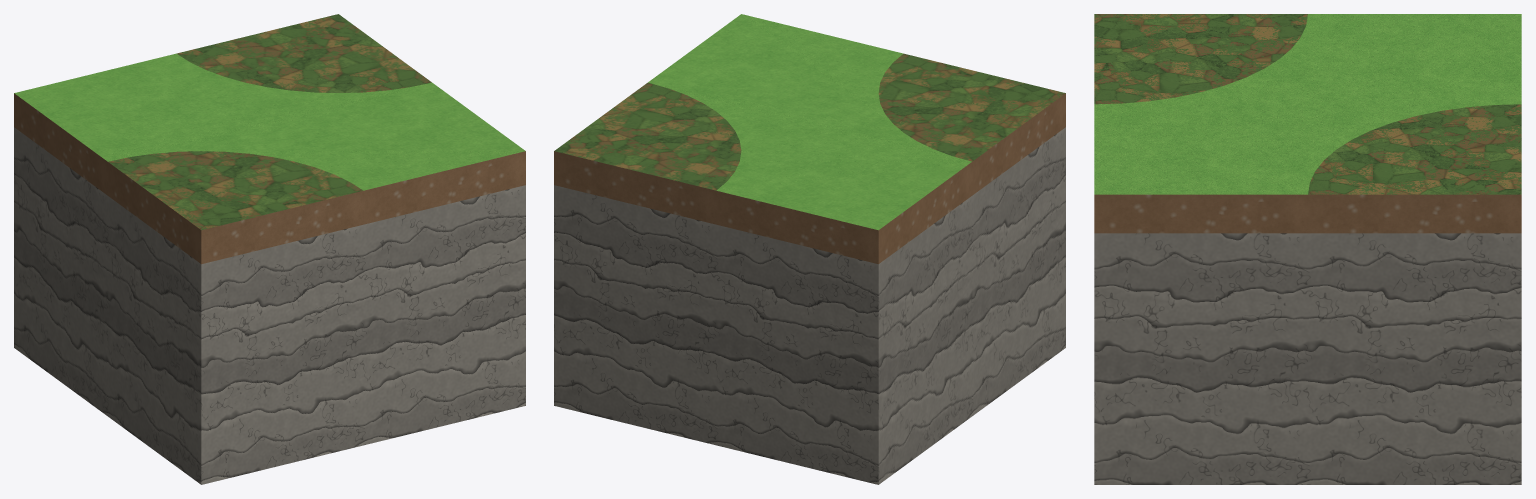
The model's file is Forest_Diagonal_U.fbx.
3 views of the same model, side by side, from view 1: azimuth 30°, elevation 25°; view 2: azimuth 150°, elevation 25°; view 3: azimuth 270°, elevation 25° (orthographic). The views are drawn at different scales.
Visible parts, largest first — view 1: Forest_Diagonal_U; view 2: Forest_Diagonal_U; view 3: Forest_Diagonal_U.
Part boxes in pixels (x1,y1,x2,y2): Forest_Diagonal_U: (14,14,525,484); Forest_Diagonal_U: (554,14,1065,484); Forest_Diagonal_U: (1094,14,1521,484).
Size of the model in its own units: 3 by 2.25 by 3.
4 materials, 4 textured.
